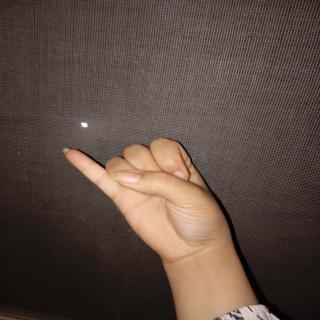MEEM: (53, 127, 252, 290)
